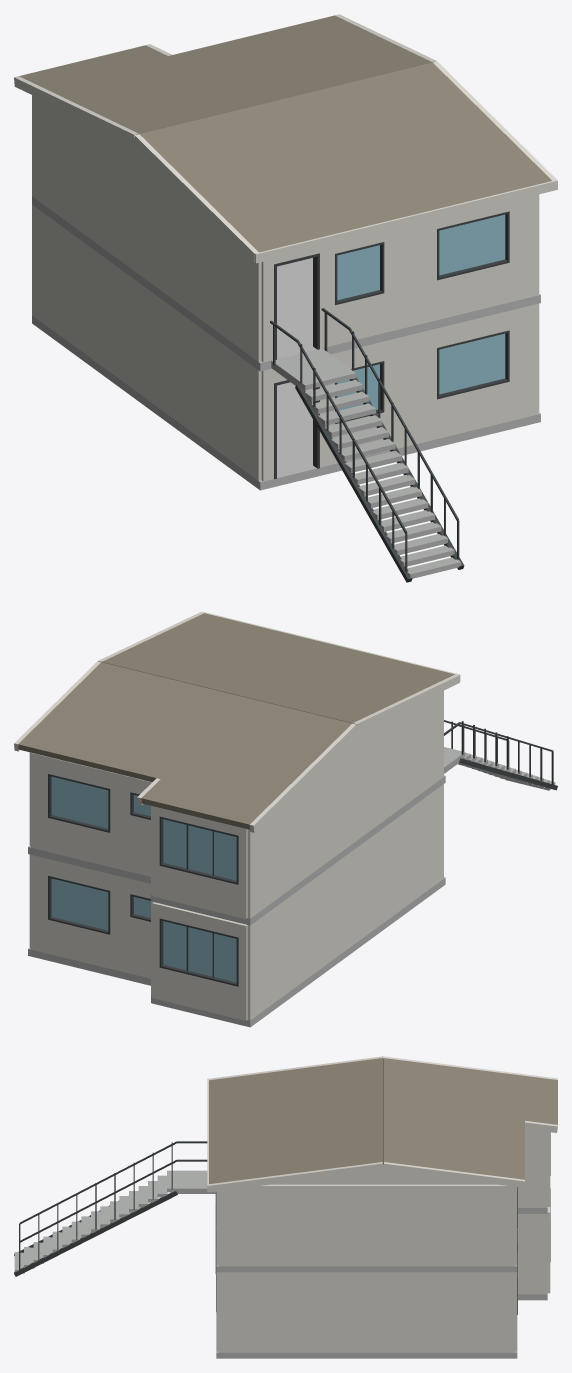
File: Apartamento.fbx
3 views of the same model, one above another, from view 1: azimuth 30°, elevation 25°; view 2: azimuth 150°, elevation 25°; view 3: azimuth 270°, elevation 25° (orthographic). The views are drawn at different scales.
Parts seen in each view (by area): view 1: Cubierta frente, Lateral izquierdo baja, Lateral izquierdo alta, Cubierta posterior, Losa alta, Losa baja, Fachada baja.005, Fachada alta.005, Fascia frontal, Fachada baja.008, Ventana dormitorio frente baja vidrio, Ventana dormitorio frente alta vidrio (+21 smaller); view 2: Cubierta posterior, Cubierta frente, Lateral izquierdo baja, Lateral izquierdo alta, Cubierta sala, Ventanales sala baja vidrio, Ventanales sala alta vidrio, Fondo sala alta.001, Fondo sala baja.001, Losa baja, Losa alta, Ventana posterior baja vidrio (+23 smaller); view 3: Lateral derecho alta, Lateral derecho baja, Cubierta frente, Cubierta posterior, Retiro posterior baja, Losa alta, Losa baja, Retiro posterior alta, Remate derecho, Fascia lateral.001, Cubierta sala, Fascia lateral.003 (+5 smaller).
Boxes of the visible parts, x1,y1,x2,y2 form: Cubierta frente: (139, 62, 551, 252); Lateral izquierdo baja: (32, 204, 261, 480); Lateral izquierdo alta: (32, 95, 261, 361); Cubierta posterior: (42, 15, 434, 134); Losa alta: (53, 212, 540, 371); Losa baja: (53, 331, 540, 490); Fachada baja.005: (383, 328, 437, 452); Fachada alta.005: (383, 219, 437, 333); Fascia frontal: (254, 180, 557, 263); Fachada baja.008: (508, 304, 537, 421); Ventana dormitorio frente baja vidrio: (439, 333, 505, 394); Ventana dormitorio frente alta vidrio: (439, 214, 505, 275); Cubierta posterior: (18, 662, 351, 805); Cubierta frente: (100, 613, 454, 723); Lateral izquierdo baja: (247, 784, 443, 1020); Lateral izquierdo alta: (247, 690, 443, 918); Cubierta sala: (141, 779, 268, 829); Ventanales sala baja vidrio: (163, 921, 236, 982); Ventanales sala alta vidrio: (163, 819, 236, 880); Fondo sala alta.001: (160, 866, 237, 916); Fondo sala baja.001: (160, 968, 237, 1018); Losa baja: (28, 877, 445, 1013); Losa alta: (28, 775, 445, 911); Ventana posterior baja vidrio: (51, 878, 108, 930); Lateral derecho alta: (219, 1184, 514, 1266); Lateral derecho baja: (219, 1272, 514, 1352); Cubierta frente: (209, 1057, 383, 1183); Cubierta posterior: (383, 1057, 524, 1179); Retiro posterior baja: (517, 1214, 547, 1294); Losa alta: (216, 1265, 517, 1272); Losa baja: (216, 1351, 517, 1358); Retiro posterior alta: (518, 1129, 547, 1207); Remate derecho: (271, 1170, 496, 1184); Fascia lateral.001: (208, 1162, 383, 1192); Cubierta sala: (525, 1076, 557, 1124); Fascia lateral.003: (383, 1162, 524, 1187).
Size of the model in its own units: 7.72 by 6.68 by 16.55.
